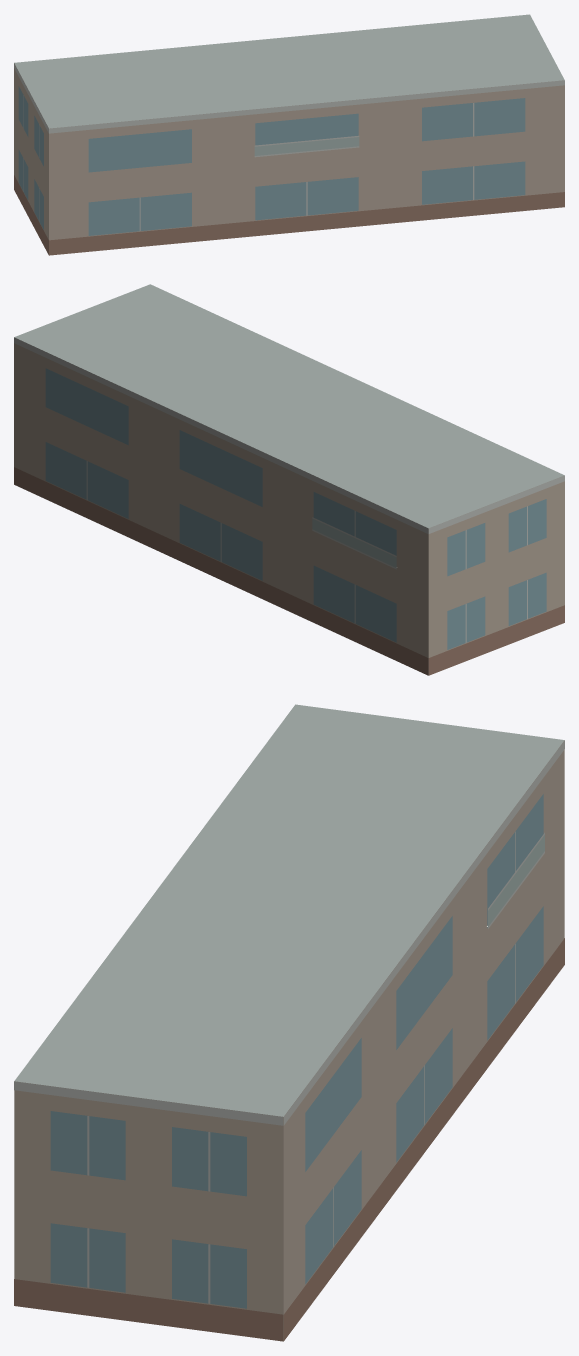
The model's file is survey-upis-32817489.glb.
3 renders of one model, top to bottom at view 1: azimuth 30°, elevation 25°; view 2: azimuth 150°, elevation 25°; view 3: azimuth 270°, elevation 25°, orthographic. The views are drawn at different scales.
Visible parts, largest first — view 1: survey-upis-32817489.tmp; view 2: survey-upis-32817489.tmp; view 3: survey-upis-32817489.tmp.
Boxes of the visible parts, <box> form: survey-upis-32817489.tmp: <box>14,14,564,255</box>; survey-upis-32817489.tmp: <box>14,284,564,675</box>; survey-upis-32817489.tmp: <box>14,704,564,1341</box>.
Size of the model in its own units: 24.03 by 6.1 by 13.56.
